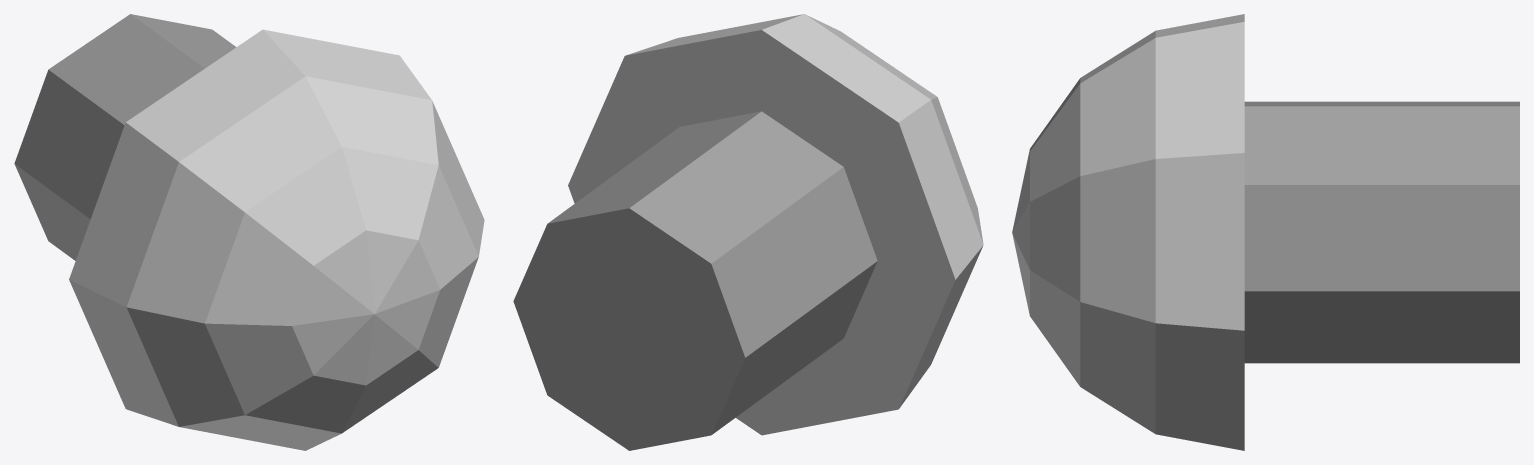
Rendered from HousePart_03.fbx.
3 renders of one model, left to right at view 1: azimuth 30°, elevation 25°; view 2: azimuth 150°, elevation 25°; view 3: azimuth 270°, elevation 25°, orthographic. The views are drawn at different scales.
Parts seen in each view (by area): view 1: HousePart_03; view 2: HousePart_03; view 3: HousePart_03.
Part boxes in pixels (x1,y1,x2,y2): HousePart_03: (14, 14, 484, 450); HousePart_03: (513, 14, 983, 450); HousePart_03: (1012, 14, 1519, 450).
Size of the model in its own units: 30.42 by 30.42 by 33.21.
